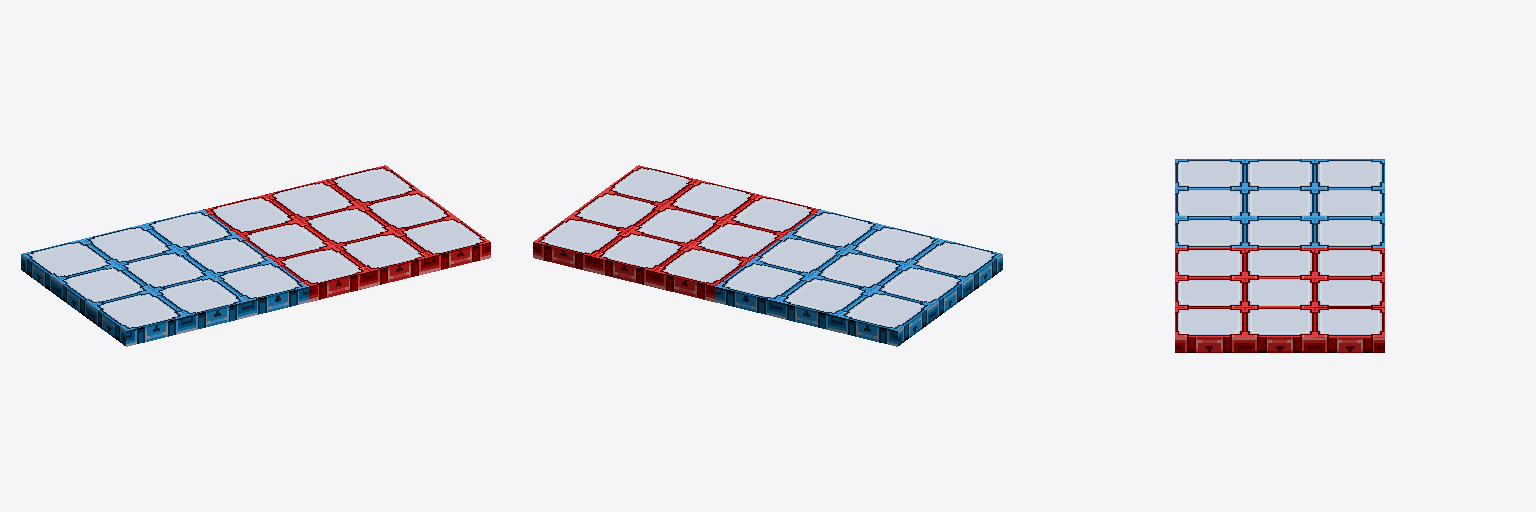
The picture shows the model from 3 angles: view 1: azimuth 30°, elevation 25°; view 2: azimuth 150°, elevation 25°; view 3: azimuth 270°, elevation 25°; orthographic projection.
Parts seen in each view (by area): view 1: rdmobj00; view 2: rdmobj00; view 3: rdmobj00.
Part boxes in pixels (bbox=[...]): rdmobj00: bbox=[21, 165, 490, 346]; rdmobj00: bbox=[533, 165, 1002, 346]; rdmobj00: bbox=[1175, 159, 1384, 352].
Bounding box in the file's own units: 9 × 0.375 × 4.5.
Materials: 1 (1 with a texture image).